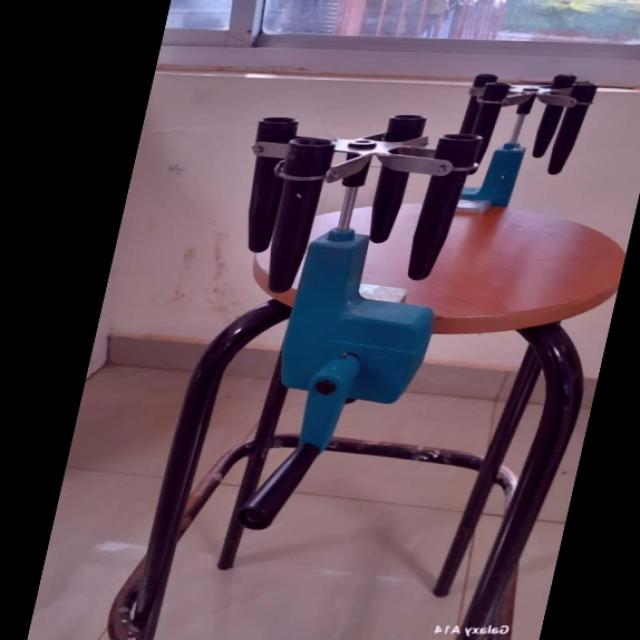Centrifuge: (136, 78, 620, 520)
